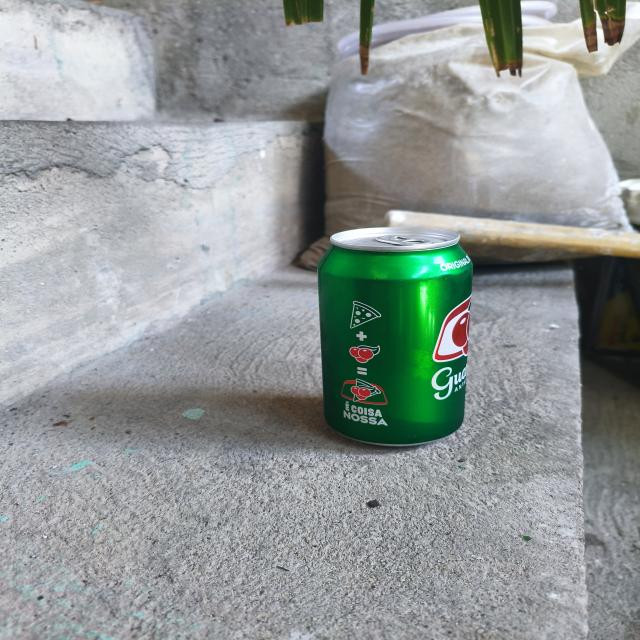Guarana: (298, 222, 487, 452)
